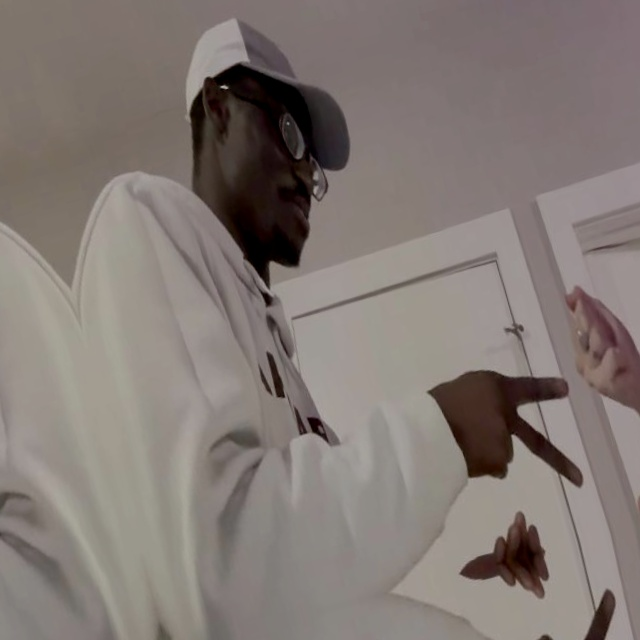Rock: (557, 274, 640, 415)
Scissors: (424, 343, 597, 522)
